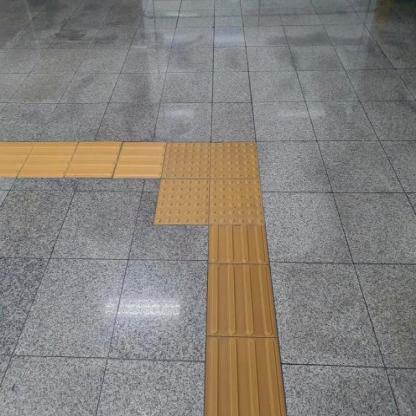podotacti: (136, 118, 288, 254), (204, 226, 286, 415), (0, 136, 162, 180)
